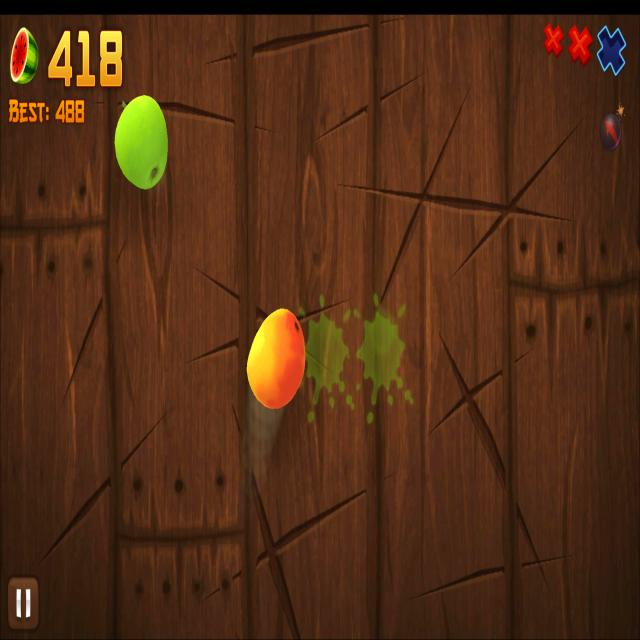fruit: (246, 308, 305, 410), (113, 94, 169, 190)
